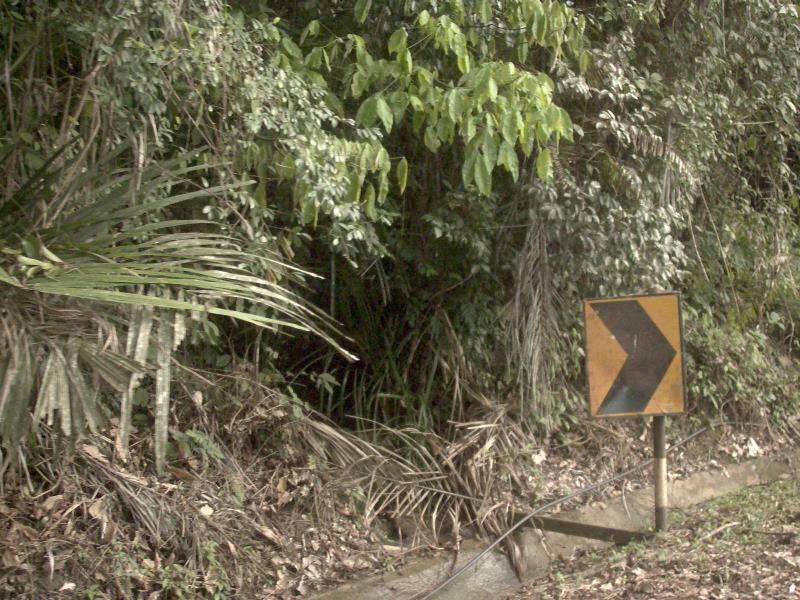traffic_sign: (572, 269, 699, 439)
